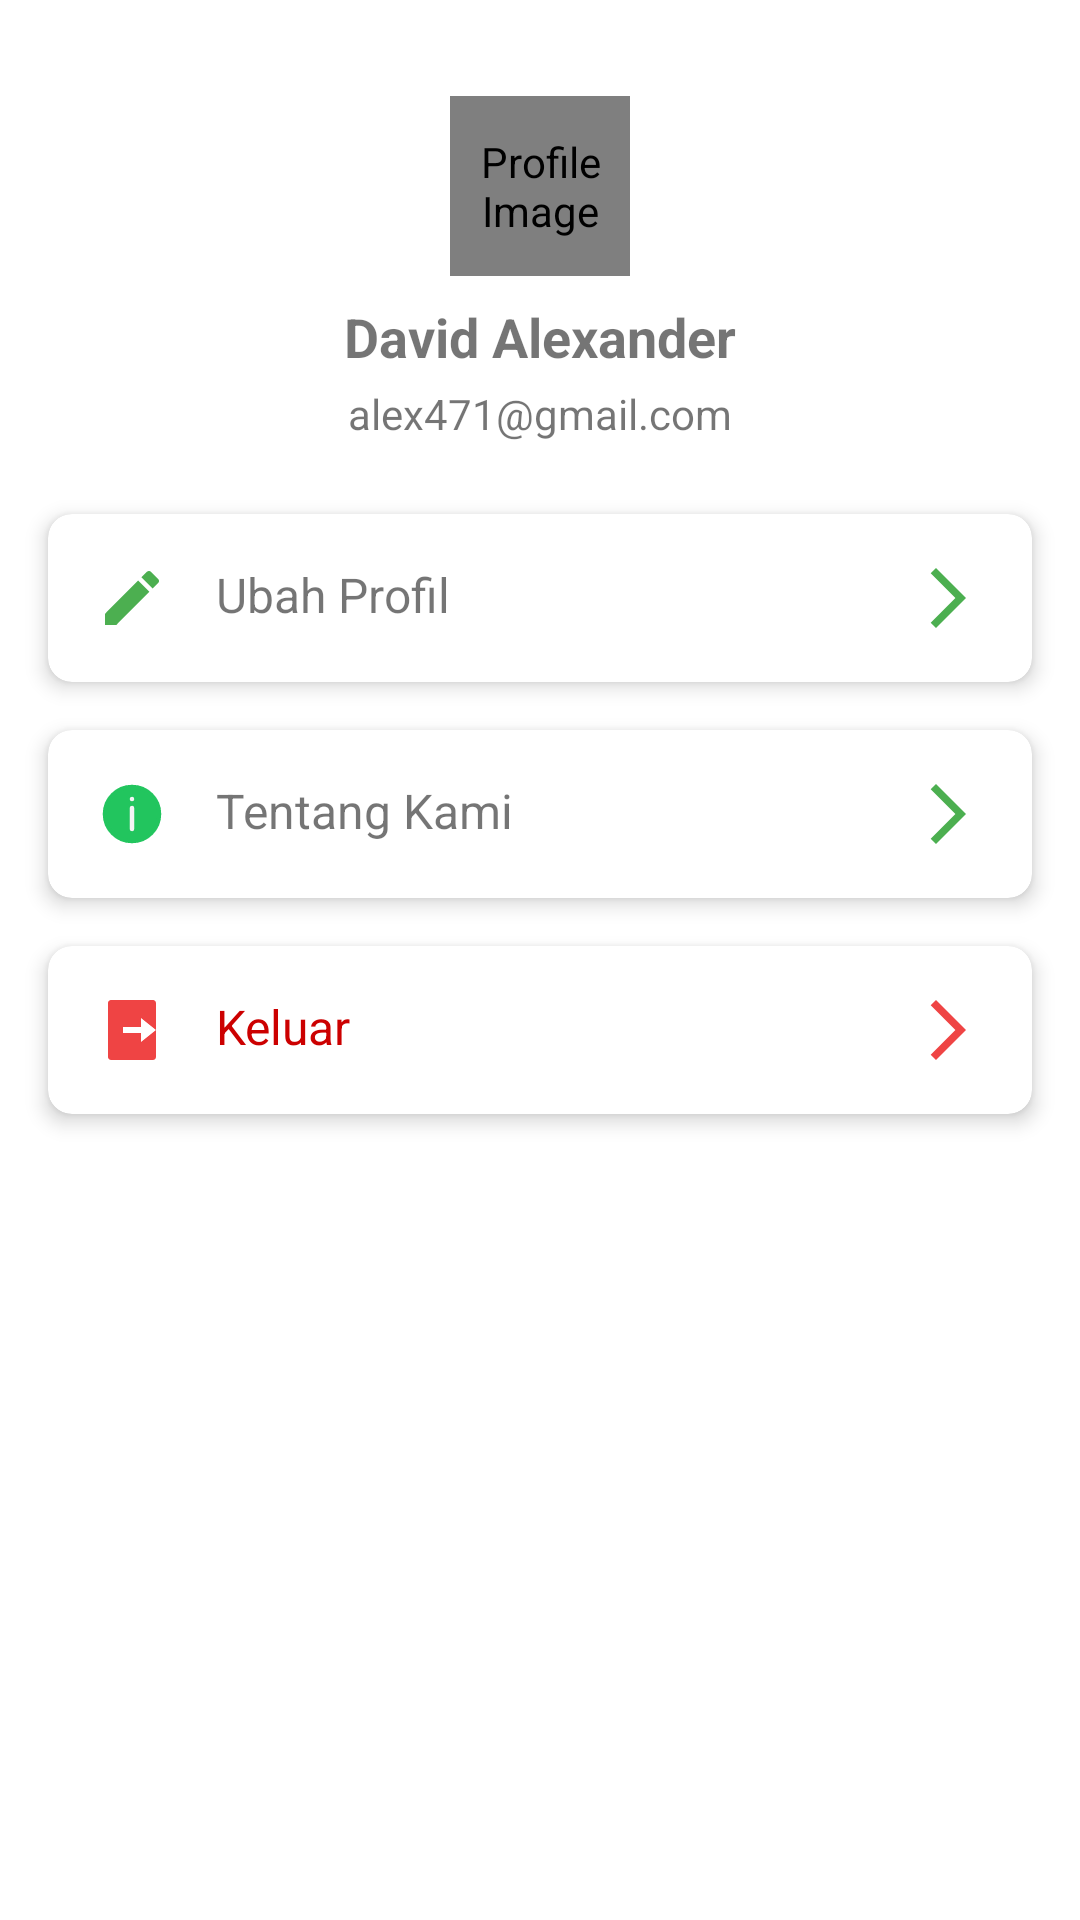

Named icons in this screenshot (1080*1920) and their centers, point (x, y):
About Us Icon: point (132, 814)
arrow forward: point (948, 598), point (948, 814), point (948, 1030)
Edit Profile Icon: point (132, 598)
